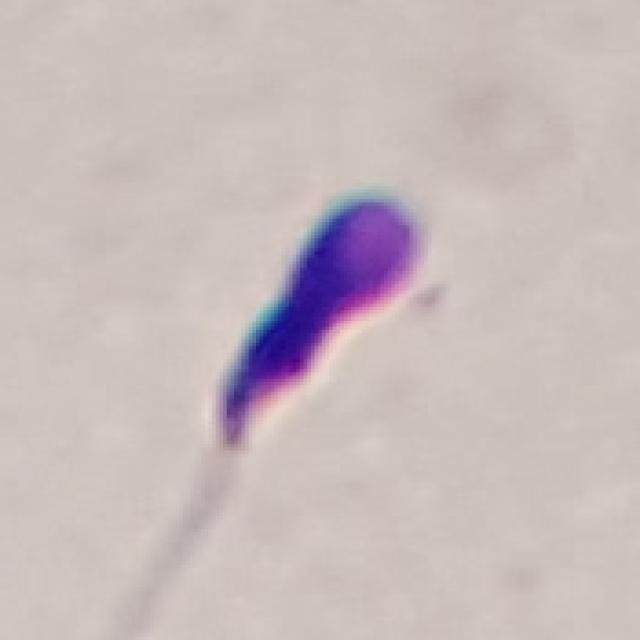abnormal sperm: (172, 169, 442, 640)
